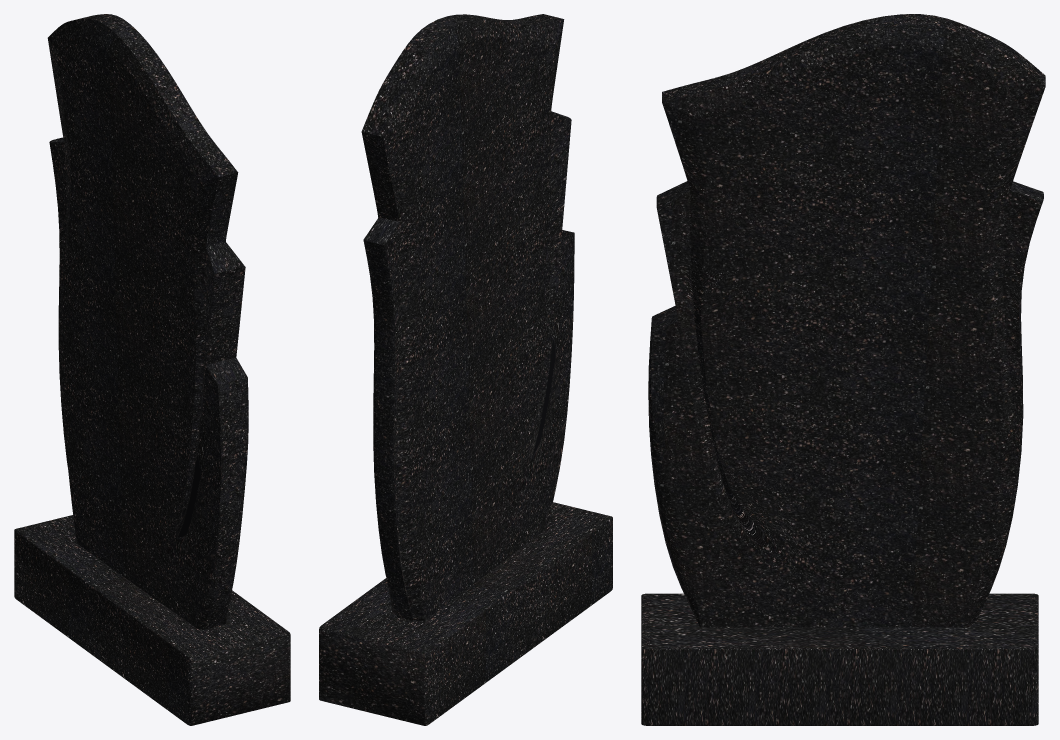
The model's file is Памятник Тюльпан [granite_1_standard] (100).glb.
3 views of the same model, side by side, from view 1: azimuth 30°, elevation 25°; view 2: azimuth 150°, elevation 25°; view 3: azimuth 270°, elevation 25° (orthographic). The views are drawn at different scales.
Visible parts, largest first — view 1: Cube.080, Куб.129; view 2: Cube.080, Куб.129; view 3: Cube.080, Куб.129.
Boxes of the visible parts, x1,y1,x2,y2 form: Cube.080: (47, 14, 248, 629); Куб.129: (14, 515, 290, 725); Cube.080: (361, 14, 574, 621); Куб.129: (319, 502, 612, 725); Cube.080: (648, 14, 1045, 627); Куб.129: (641, 593, 1038, 725).
Bounding box in the file's own units: 0.2 × 1.13 × 0.6106.
Materials: 1 (1 with a texture image).
